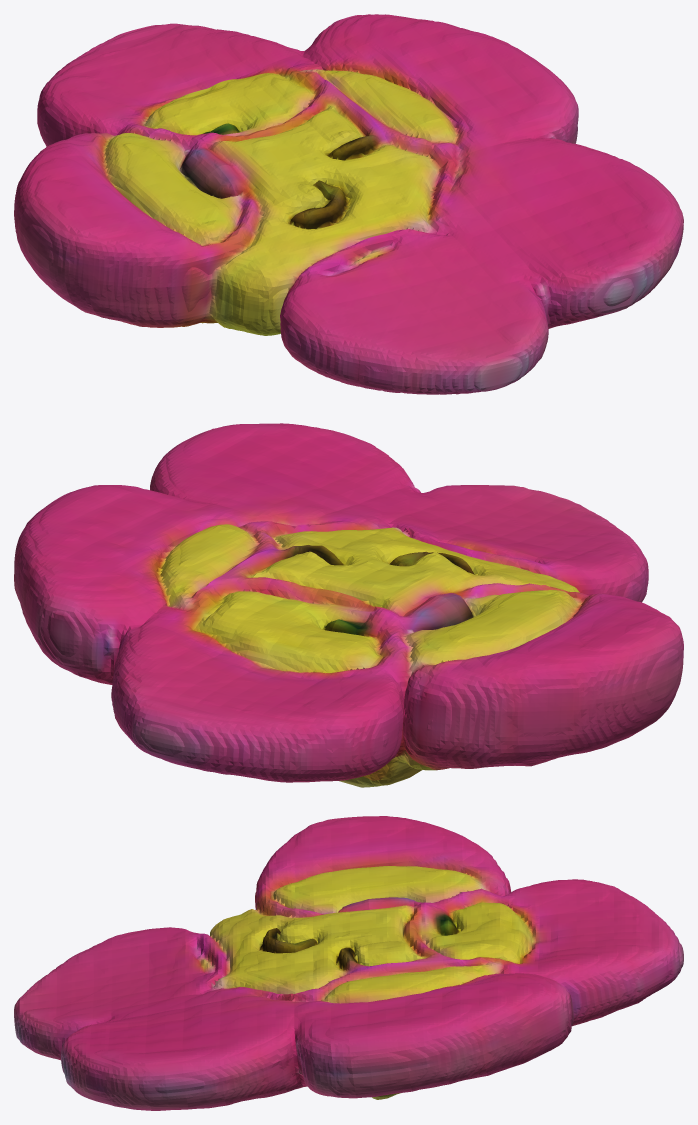
3 views of the same model, one above another, from view 1: azimuth 30°, elevation 25°; view 2: azimuth 150°, elevation 25°; view 3: azimuth 270°, elevation 25° (orthographic). The views are drawn at different scales.
Parts seen in each view (by area): view 1: world; view 2: world; view 3: world.
Boxes of the visible parts, x1,y1,x2,y2 form: world: [14, 14, 683, 394]; world: [14, 423, 683, 787]; world: [14, 816, 683, 1110].
Bounding box in the file's own units: 0.8325 × 0.2927 × 0.9773.
